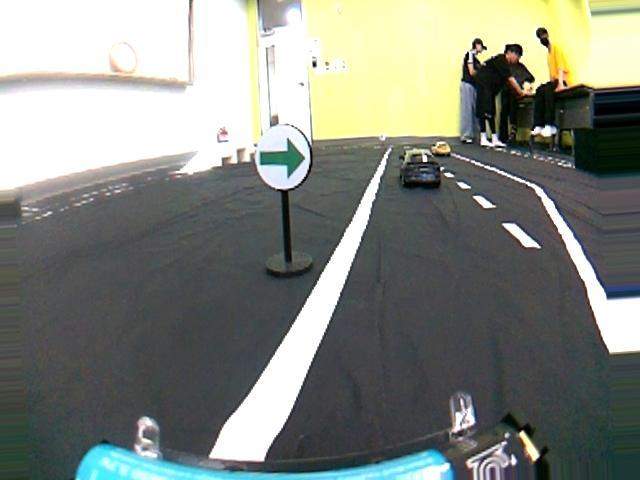car: (400, 155, 447, 191), (433, 140, 453, 154)
sign_right: (252, 123, 316, 191)
straight: (2, 164, 640, 480)
